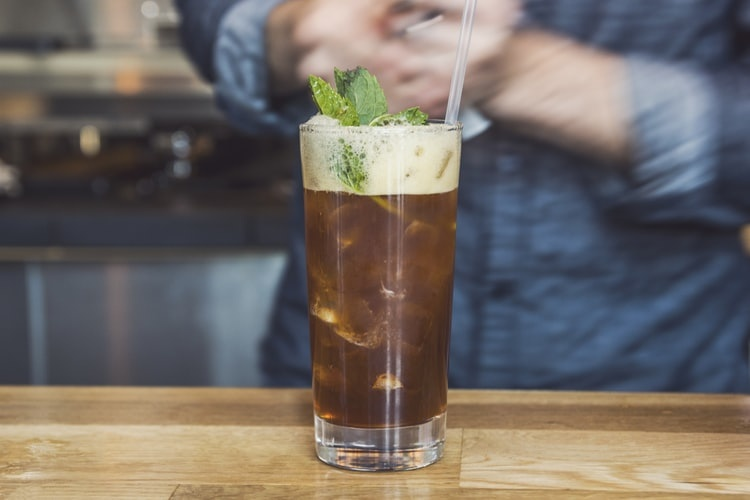whiskey: (303, 113, 463, 454)
